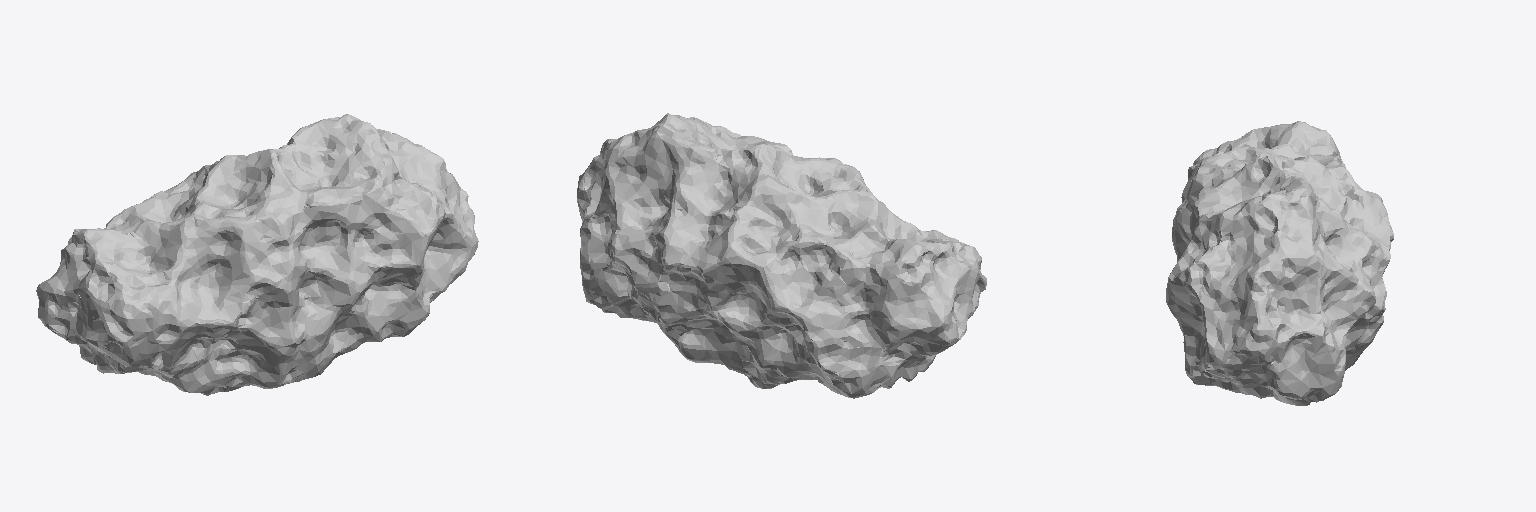
File: Asteroid_2_ULOW_MODEL_.obj
The picture shows the model from 3 angles: view 1: azimuth 30°, elevation 25°; view 2: azimuth 150°, elevation 25°; view 3: azimuth 270°, elevation 25°; orthographic projection.
Visible parts, largest first — view 1: ASTEROID_LOW_POLY_2__Cube.000; view 2: ASTEROID_LOW_POLY_2__Cube.000; view 3: ASTEROID_LOW_POLY_2__Cube.000.
Boxes of the visible parts, x1=… form: ASTEROID_LOW_POLY_2__Cube.000: x1=36, y1=114, x2=478, y2=395; ASTEROID_LOW_POLY_2__Cube.000: x1=577, y1=113, x2=986, y2=398; ASTEROID_LOW_POLY_2__Cube.000: x1=1166, y1=121, x2=1393, y2=405.
Bounding box in the file's own units: 4 × 2.15 × 1.97.